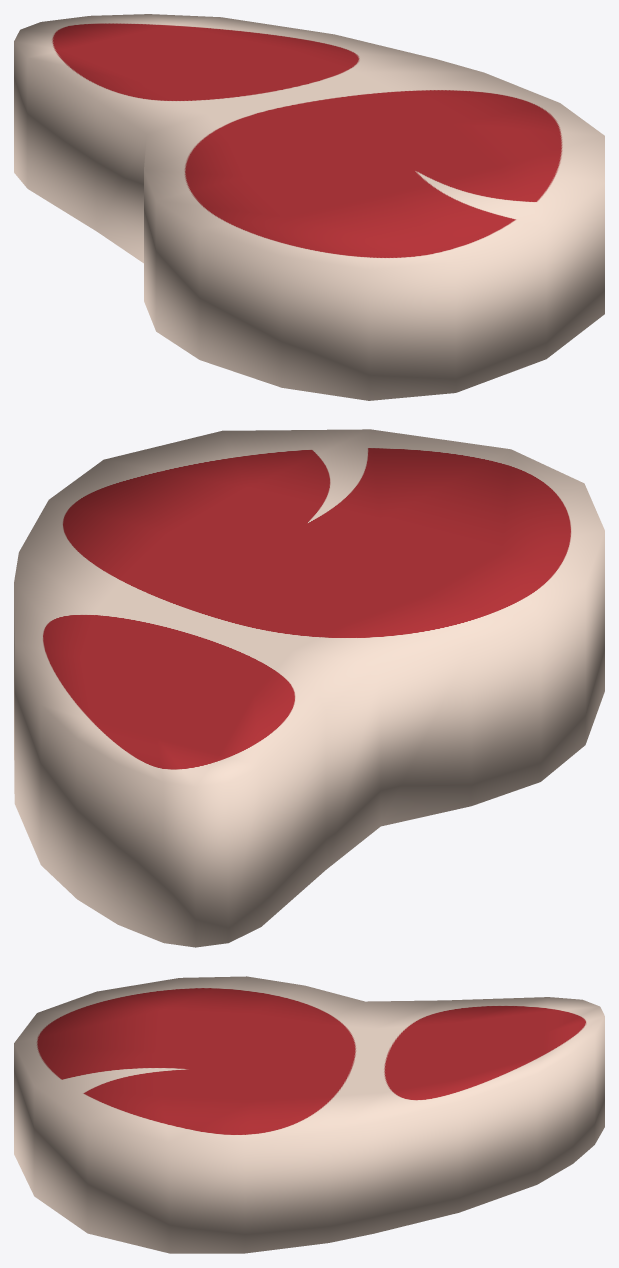
Rendered from Steak.fbx.
3 renders of one model, top to bottom at view 1: azimuth 30°, elevation 25°; view 2: azimuth 150°, elevation 25°; view 3: azimuth 270°, elevation 25°, orthographic. The views are drawn at different scales.
Visible parts, largest first — view 1: Steak; view 2: Steak; view 3: Steak.
Boxes of the visible parts, x1,y1,x2,y2 form: Steak: [14, 14, 604, 400]; Steak: [14, 429, 604, 947]; Steak: [14, 976, 604, 1253].
Size of the model in its own units: 325 by 101 by 488.
1 material, 1 textured.
